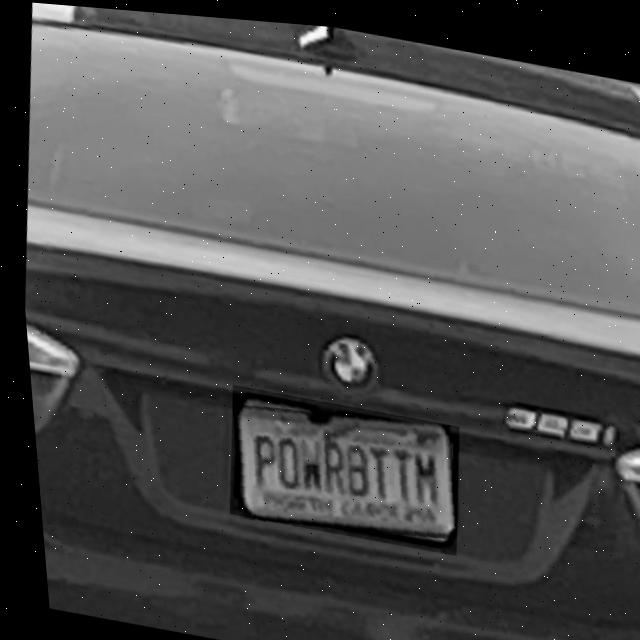LicensePlate: (225, 400, 448, 532)
